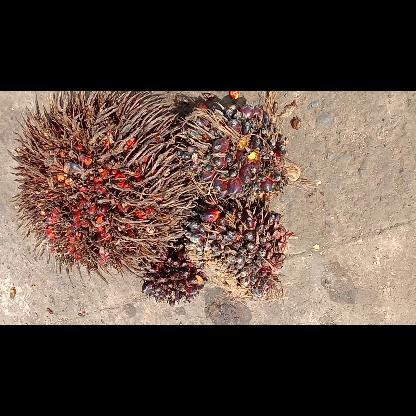TBS abnormal: (177, 100, 303, 208), (182, 199, 292, 306), (140, 240, 206, 308)
Terlalu masak: (6, 92, 200, 284)
